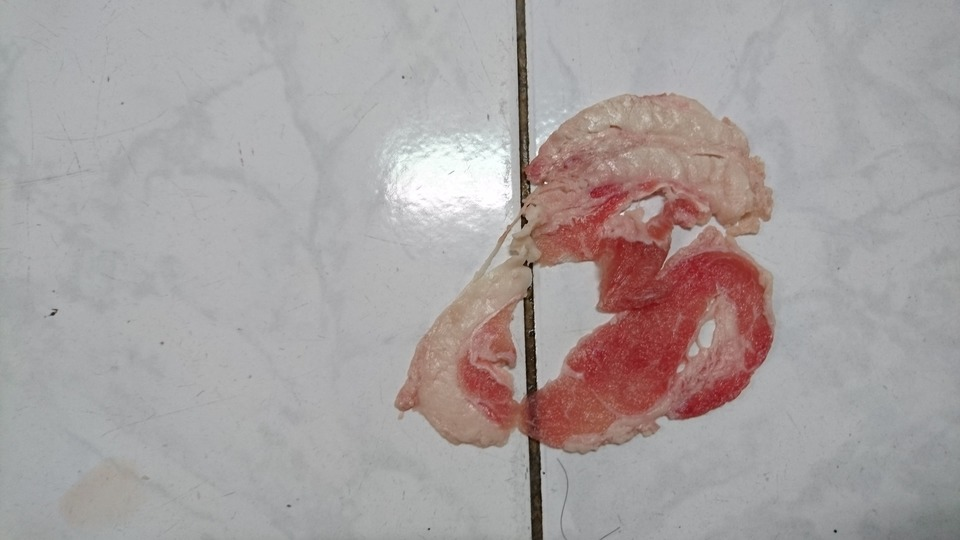restructured meat: (404, 91, 780, 457)
